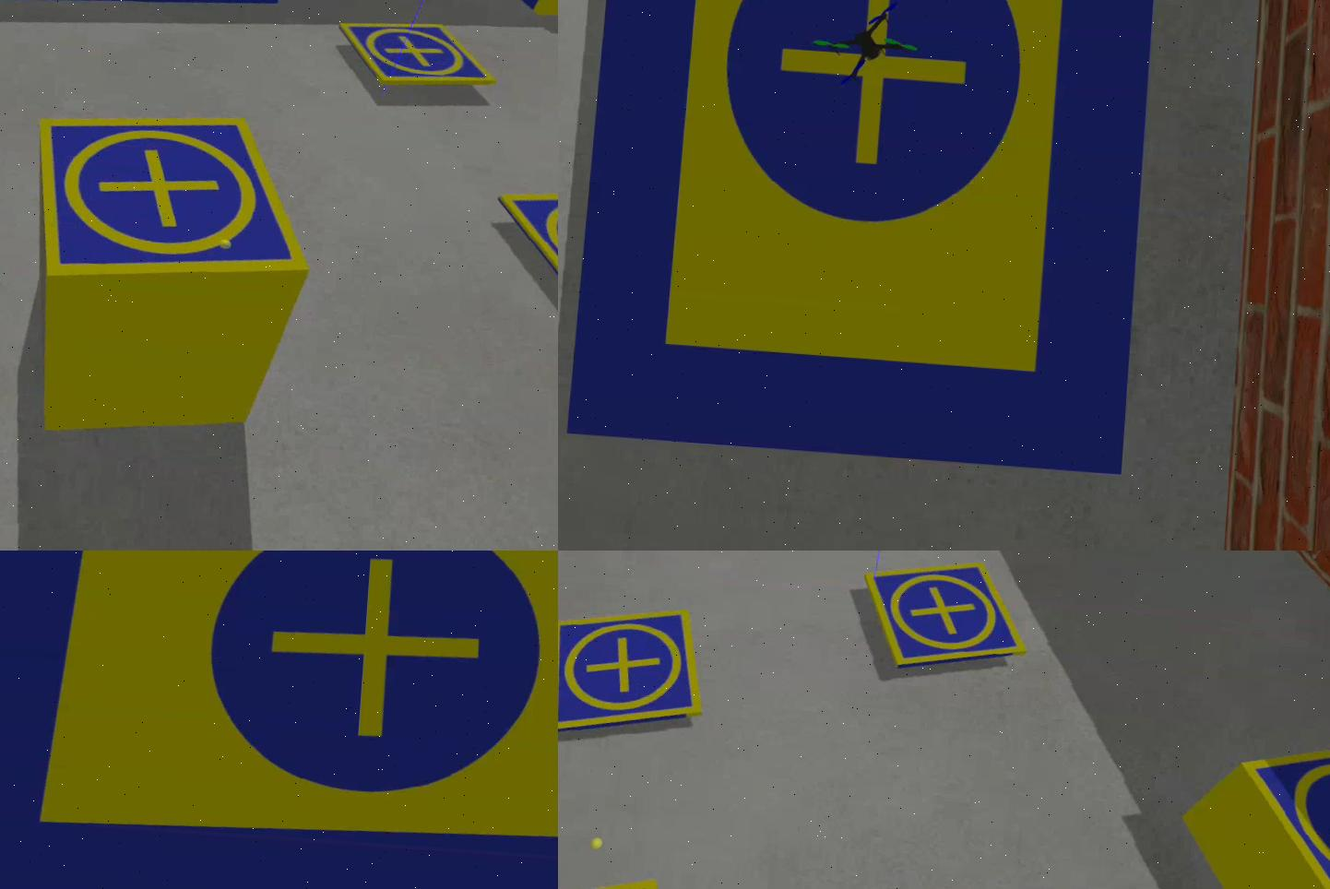large_base: (565, 1, 1160, 482), (1, 551, 559, 889)
small_base: (30, 106, 320, 295), (861, 557, 1034, 684), (559, 601, 710, 744), (1229, 730, 1330, 889), (338, 18, 497, 95), (491, 186, 559, 326)
